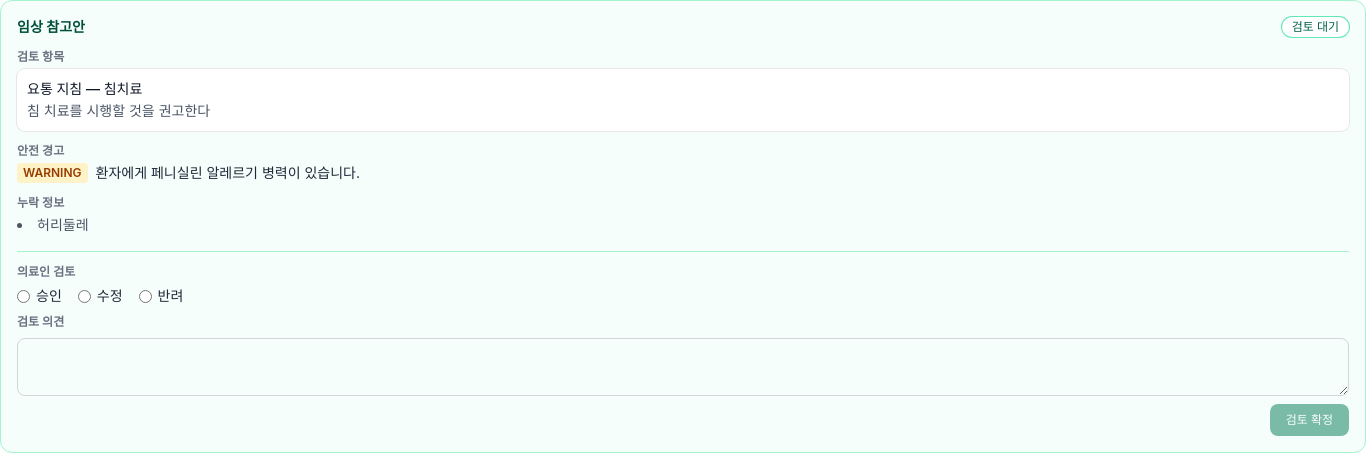
Scenario: GuidanceCard › 수정 의견으로 검토를 확정하고 수정 반영 상태를 렌더링한다
The image size is (1366, 470).
Click the radio button with aria-label "MODIFIED" at (84, 296), box [78,290,91,302]
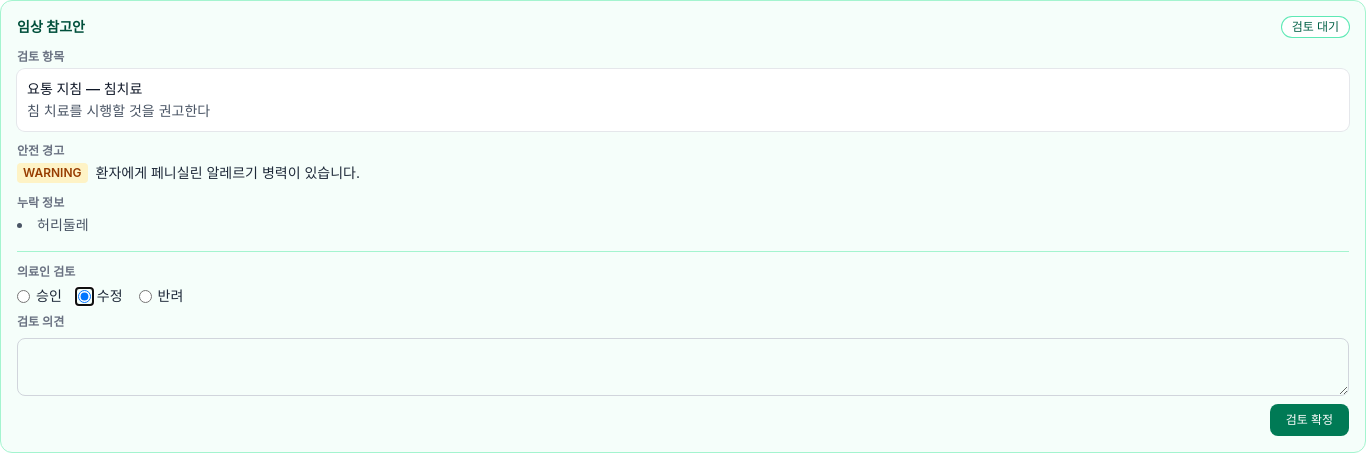
Type "용량 조정 필요" into the text box labelled "검토 의견" at (683, 367), box [17,338,1349,396]
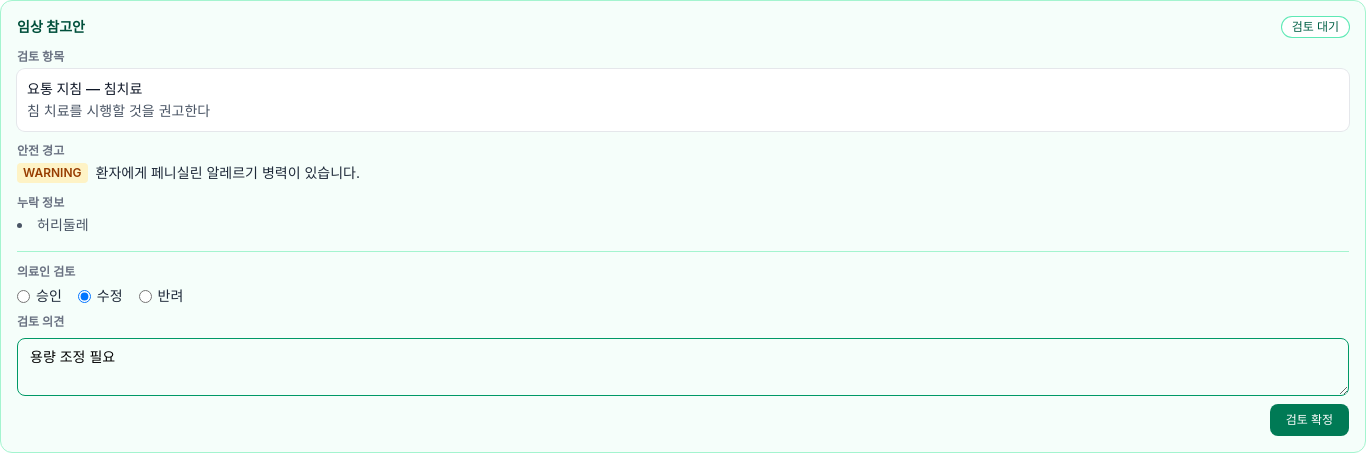
Click the button "검토 확정" at (1309, 420), box [1270,404,1349,436]
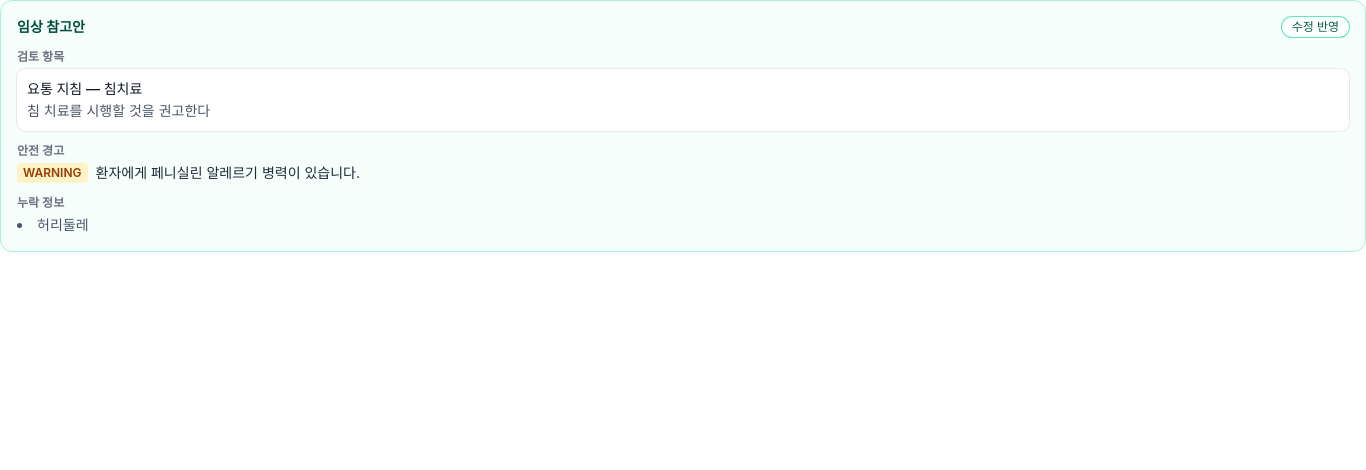
Check: the text "수정 반영" is shown, box [1282,17,1349,37]
